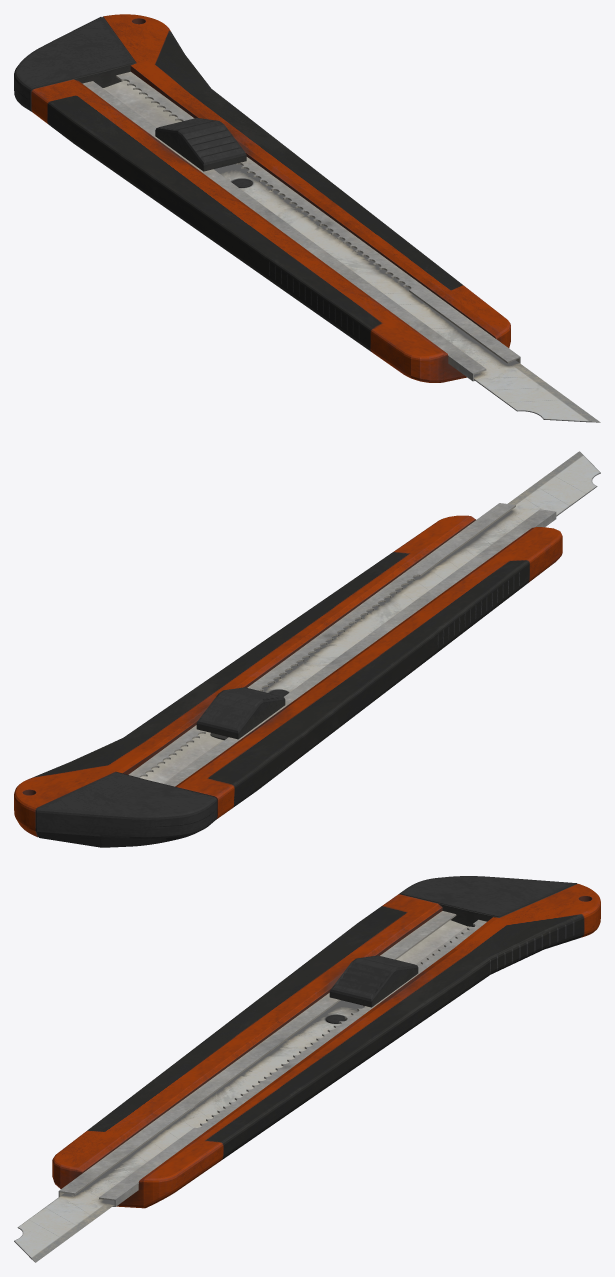
The picture shows the model from 3 angles, top to bottom: view 1: azimuth 30°, elevation 25°; view 2: azimuth 150°, elevation 25°; view 3: azimuth 330°, elevation 25°; orthographic projection. The views are drawn at different scales.
Visible parts, largest first — view 1: korpus, metall, Lezvie; view 2: korpus, metall, Lezvie; view 3: korpus, metall, Lezvie.
Boxes of the visible parts, x1,y1,x2,y2 form: korpus: (14, 14, 510, 382); metall: (82, 71, 520, 381); Lezvie: (214, 164, 600, 422); korpus: (14, 515, 562, 847); metall: (128, 503, 556, 786); Lezvie: (262, 451, 600, 692); korpus: (52, 876, 600, 1208); metall: (58, 911, 486, 1206); Lezvie: (14, 1000, 364, 1262).
Size of the model in its own units: 243 by 70.65 by 1306.
Materials: 4 (4 with a texture image).
